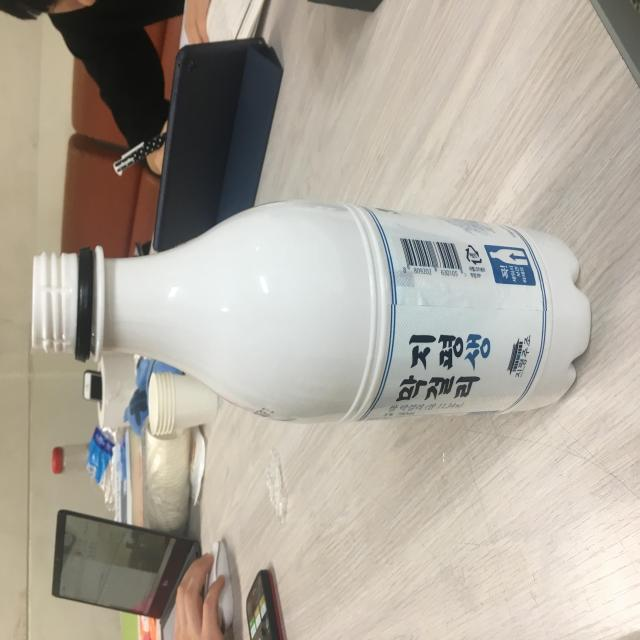bottle: (24, 204, 592, 435)
